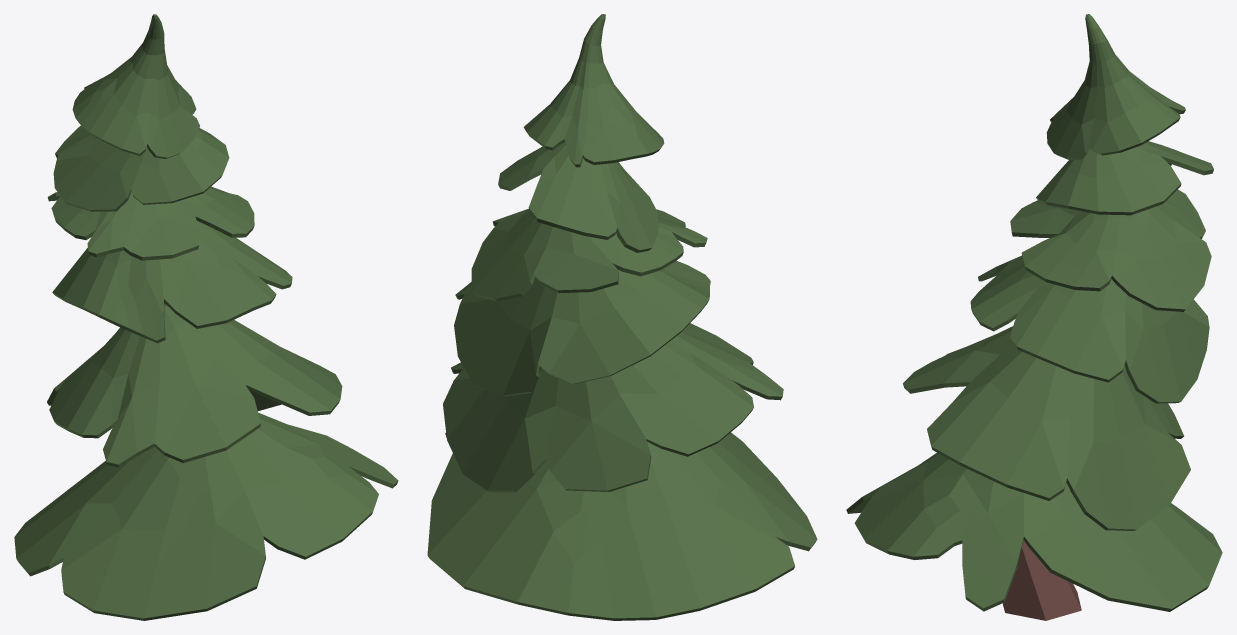
File: pine_tree_3.glb
3 views of the same model, side by side, from view 1: azimuth 30°, elevation 25°; view 2: azimuth 150°, elevation 25°; view 3: azimuth 270°, elevation 25° (orthographic). The views are drawn at different scales.
Parts seen in each view (by area): view 1: pine_tree_3; view 2: pine_tree_3; view 3: pine_tree_3.
Boxes of the visible parts, x1,y1,x2,y2 form: pine_tree_3: [14, 14, 398, 620]; pine_tree_3: [427, 14, 817, 620]; pine_tree_3: [846, 14, 1222, 620].
Size of the model in its own units: 2.16 by 3.3 by 1.95.
Materials: 1 (1 with a texture image).
